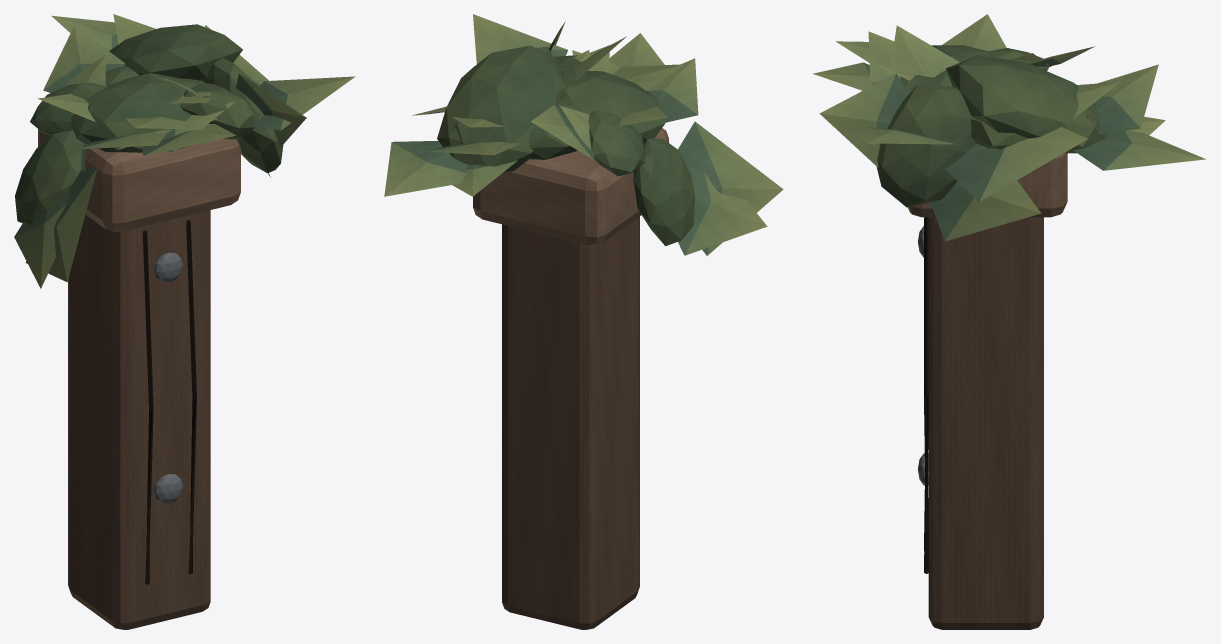
The model's file is forest_bridge_post.glb.
The picture shows the model from 3 angles, left to right: view 1: azimuth 30°, elevation 25°; view 2: azimuth 150°, elevation 25°; view 3: azimuth 270°, elevation 25°; orthographic projection. The views are drawn at different scales.
Visible parts, largest first — view 1: Bridge rail upright, Bridge post cap, Woodland shared moss cushion.061, Woodland shared moss cushion.054, Woodland shared moss cushion.055, Woodland shared moss cushion.059, Woodland shared curved ivy leaf.143, Woodland shared curved ivy leaf.158, Woodland shared curved ivy leaf.144, Woodland shared moss cushion.056, Woodland shared curved ivy leaf.154, Bridge post fine grain (+13 smaller); view 2: Bridge rail upright, Bridge post cap, Woodland shared moss cushion.054, Woodland shared moss cushion.055, Woodland shared curved ivy leaf.143, Woodland shared curved ivy leaf.144, Woodland shared moss cushion.061, Woodland shared curved ivy leaf.141, Woodland shared moss cushion.060, Woodland shared curved ivy leaf.161, Woodland shared curved ivy leaf.158, Woodland shared moss cushion.058 (+6 smaller); view 3: Bridge rail upright, Woodland shared moss cushion.054, Woodland shared moss cushion.059, Woodland shared curved ivy leaf.145, Woodland shared curved ivy leaf.151, Woodland shared curved ivy leaf.152, Woodland shared curved ivy leaf.141, Woodland shared curved ivy leaf.159, Bridge post cap, Woodland shared curved ivy leaf.146, Bridge post fine grain.001, Woodland shared curved ivy leaf.148 (+6 smaller).
Part boxes in pixels (<box>): Bridge rail upright: <box>68,210,210,629</box>; Bridge post cap: <box>38,129,240,231</box>; Woodland shared moss cushion.061: <box>71,73,205,152</box>; Woodland shared moss cushion.054: <box>109,24,242,80</box>; Woodland shared moss cushion.055: <box>15,130,85,224</box>; Woodland shared moss cushion.059: <box>203,57,283,173</box>; Woodland shared curved ivy leaf.143: <box>25,167,97,282</box>; Woodland shared curved ivy leaf.158: <box>252,76,355,130</box>; Woodland shared curved ivy leaf.144: <box>14,185,71,288</box>; Woodland shared moss cushion.056: <box>180,83,255,139</box>; Woodland shared curved ivy leaf.154: <box>43,25,125,92</box>; Bridge post fine grain: <box>142,230,153,584</box>; Bridge rail upright: <box>502,216,639,629</box>; Bridge post cap: <box>473,128,668,245</box>; Woodland shared moss cushion.054: <box>437,45,566,173</box>; Woodland shared moss cushion.055: <box>633,138,694,246</box>; Woodland shared curved ivy leaf.143: <box>678,121,783,255</box>; Woodland shared curved ivy leaf.144: <box>678,165,767,255</box>; Woodland shared moss cushion.061: <box>560,70,665,143</box>; Woodland shared curved ivy leaf.141: <box>384,140,469,196</box>; Woodland shared moss cushion.060: <box>588,110,644,176</box>; Woodland shared curved ivy leaf.161: <box>647,58,698,122</box>; Woodland shared curved ivy leaf.158: <box>473,14,567,64</box>; Woodland shared moss cushion.058: <box>528,99,587,159</box>; Bridge rail upright: <box>928,217,1043,629</box>; Woodland shared moss cushion.054: <box>946,55,1106,153</box>; Woodland shared moss cushion.059: <box>876,83,976,207</box>; Woodland shared curved ivy leaf.145: <box>945,127,1087,201</box>; Woodland shared curved ivy leaf.151: <box>930,180,1041,241</box>; Woodland shared curved ivy leaf.152: <box>819,73,908,167</box>; Woodland shared curved ivy leaf.141: <box>1073,130,1205,170</box>; Woodland shared curved ivy leaf.159: <box>1094,64,1158,134</box>; Bridge post cap: <box>907,153,1067,217</box>; Woodland shared curved ivy leaf.146: <box>889,25,959,78</box>; Bridge post fine grain.001: <box>924,217,928,573</box>; Woodland shared curved ivy leaf.148: <box>942,14,1006,51</box>.
Size of the model in its own units: 0.5425 by 0.9398 by 0.5811.
Materials: 7 (6 with a texture image).
